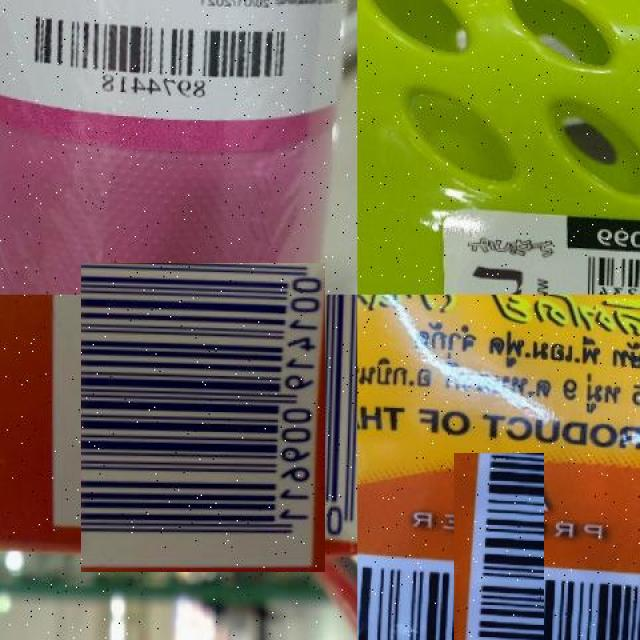Barcode: (64, 279, 341, 556), (17, 5, 296, 99), (405, 502, 591, 640), (557, 245, 640, 295)
